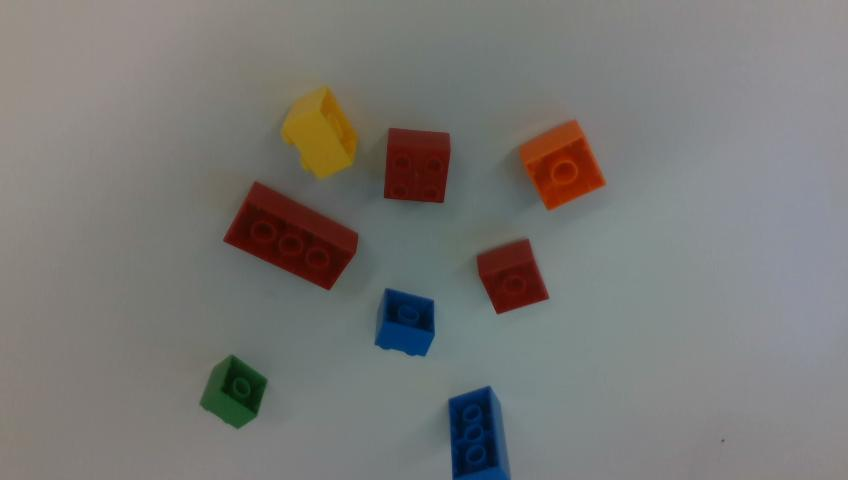2x2_blue: (376, 289, 434, 355)
2x2_green: (201, 355, 267, 428)
2x2_orange: (521, 120, 605, 209)
2x2_red: (478, 239, 548, 313), (385, 128, 450, 201)
2x2_yellow: (283, 87, 357, 177)
4x2_blue: (448, 386, 508, 479)
4x2_red: (226, 182, 357, 289)
